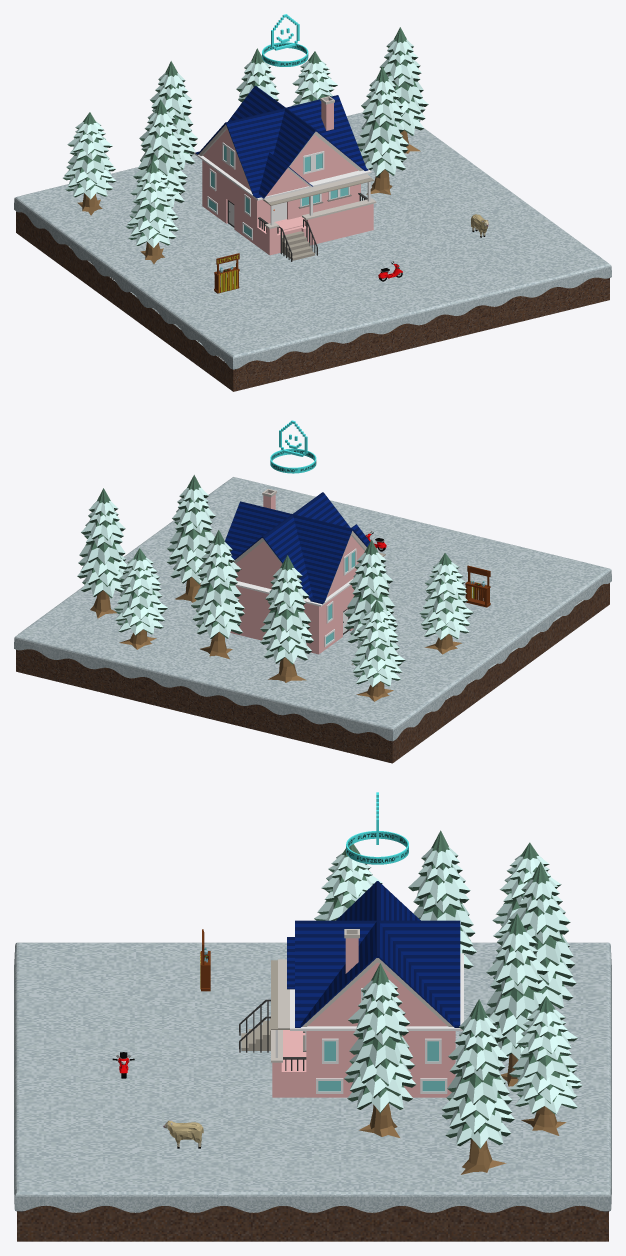
3 renders of one model, top to bottom at view 1: azimuth 30°, elevation 25°; view 2: azimuth 150°, elevation 25°; view 3: azimuth 270°, elevation 25°, orthographic. The views are drawn at different scales.
Parts seen in each view (by area): view 1: Cube.003, Cube.313, TYPE_PREMIUM, OBJRANDOM_LEMONADE_STAND; view 2: Cube.003, Cube.313, TYPE_PREMIUM, OBJRANDOM_LEMONADE_STAND; view 3: Cube.003, Cube.313, TYPE_PREMIUM, ANIMAL_OVEJA.
Boxes of the visible parts, x1,y1,x2,y2 form: Cube.003: (14,27,611,391); Cube.313: (194,85,376,261); TYPE_PREMIUM: (262,14,308,66); OBJRANDOM_LEMONADE_STAND: (214,253,239,293); Cube.003: (14,475,611,763); Cube.313: (225,489,388,654); TYPE_PREMIUM: (270,420,316,473); OBJRANDOM_LEMONADE_STAND: (465,565,490,607); Cube.003: (14,830,611,1241); Cube.313: (239,881,463,1097); TYPE_PREMIUM: (346,792,408,864); ANIMAL_OVEJA: (163,1120,203,1148).
Size of the model in its own units: 4040 by 2475 by 4040.
38 materials, 4 textured.
